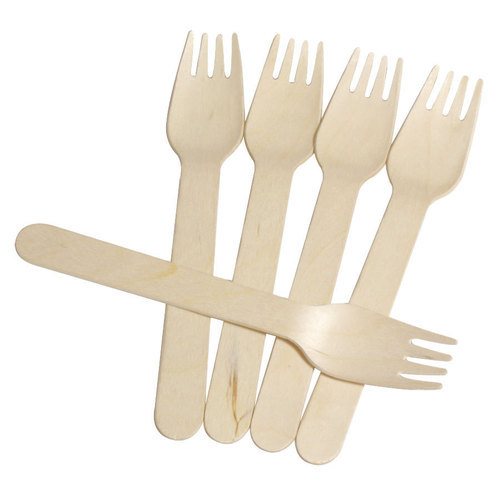Wooden Utensils: (34, 26, 462, 446)
